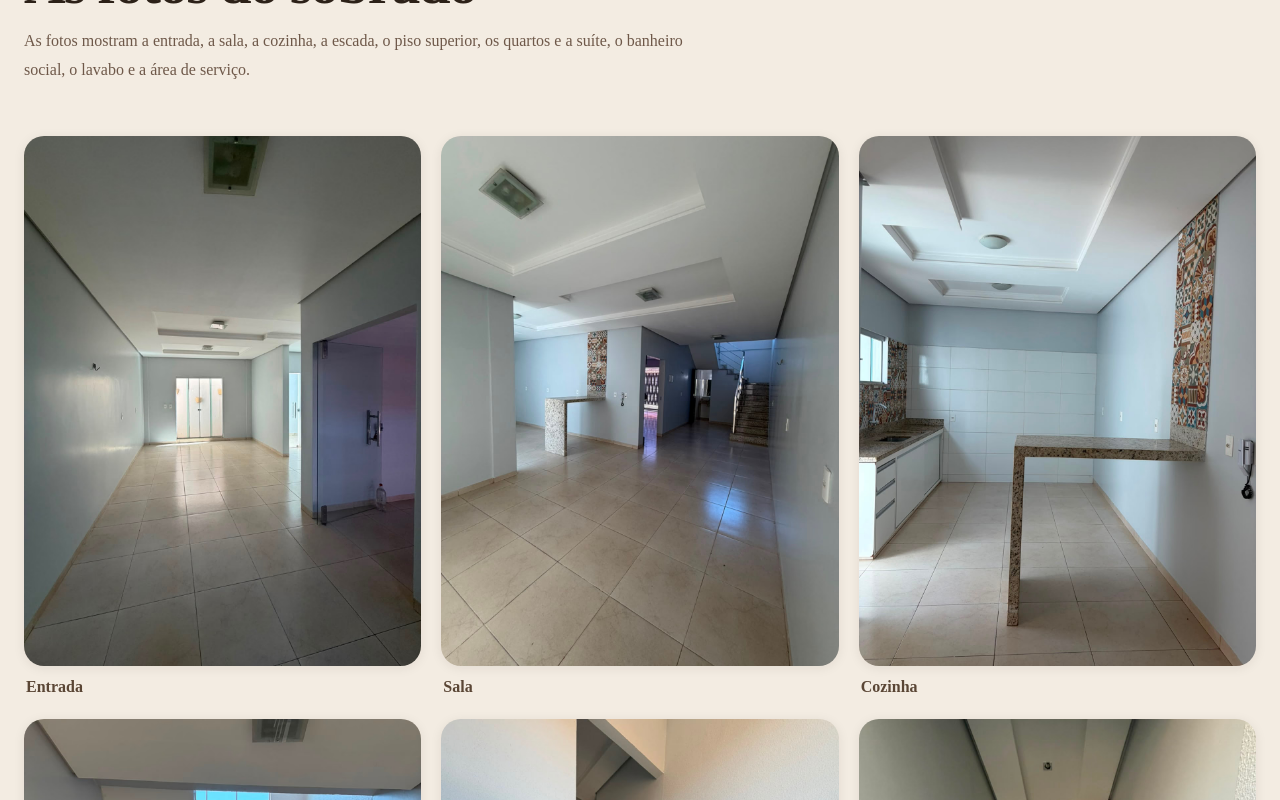
Test: gallery › opens the lightbox, navigates with arrow keys and closes with Escape
(page scrolled)
Click the button named "Hall de entrada do sobrado". click: x=223, y=401
box: [24,136,421,666]
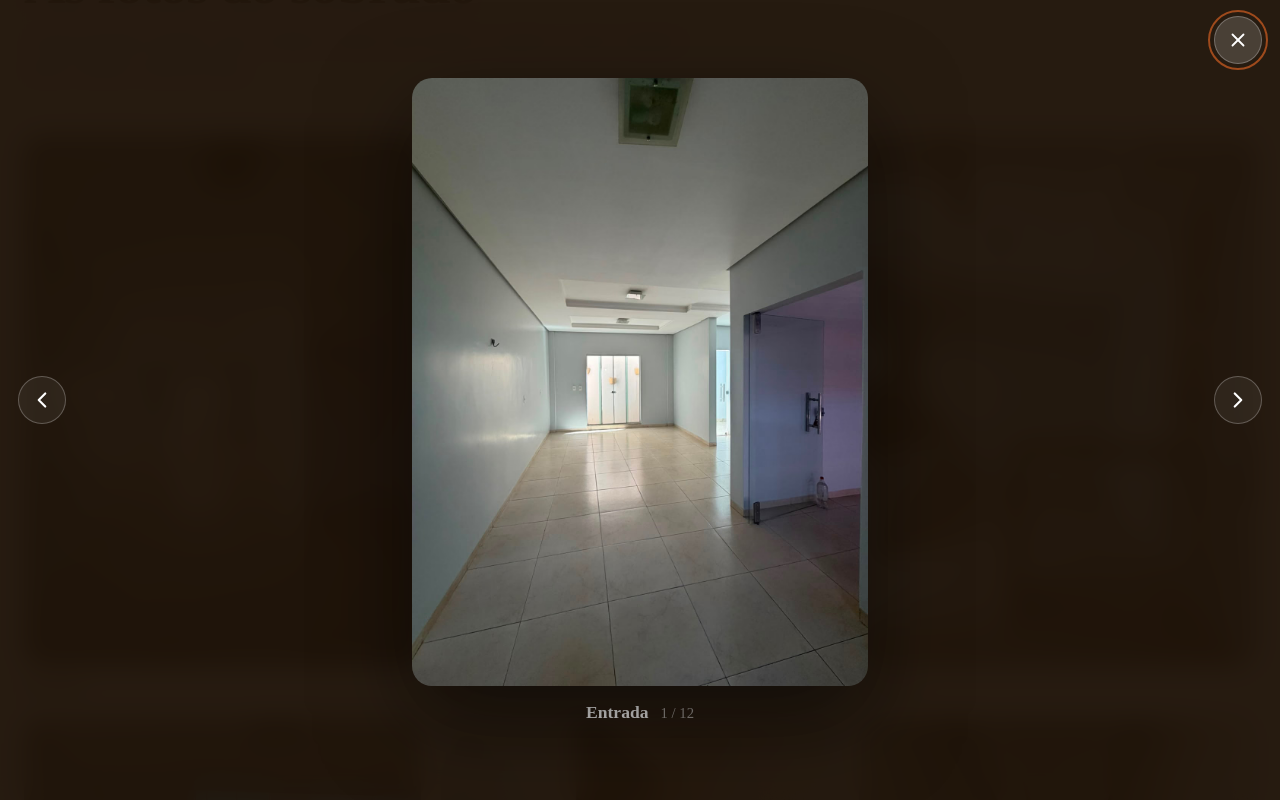
Now the dialog is shown
Now the dialog shows "1 / 12"
Press Arrowright
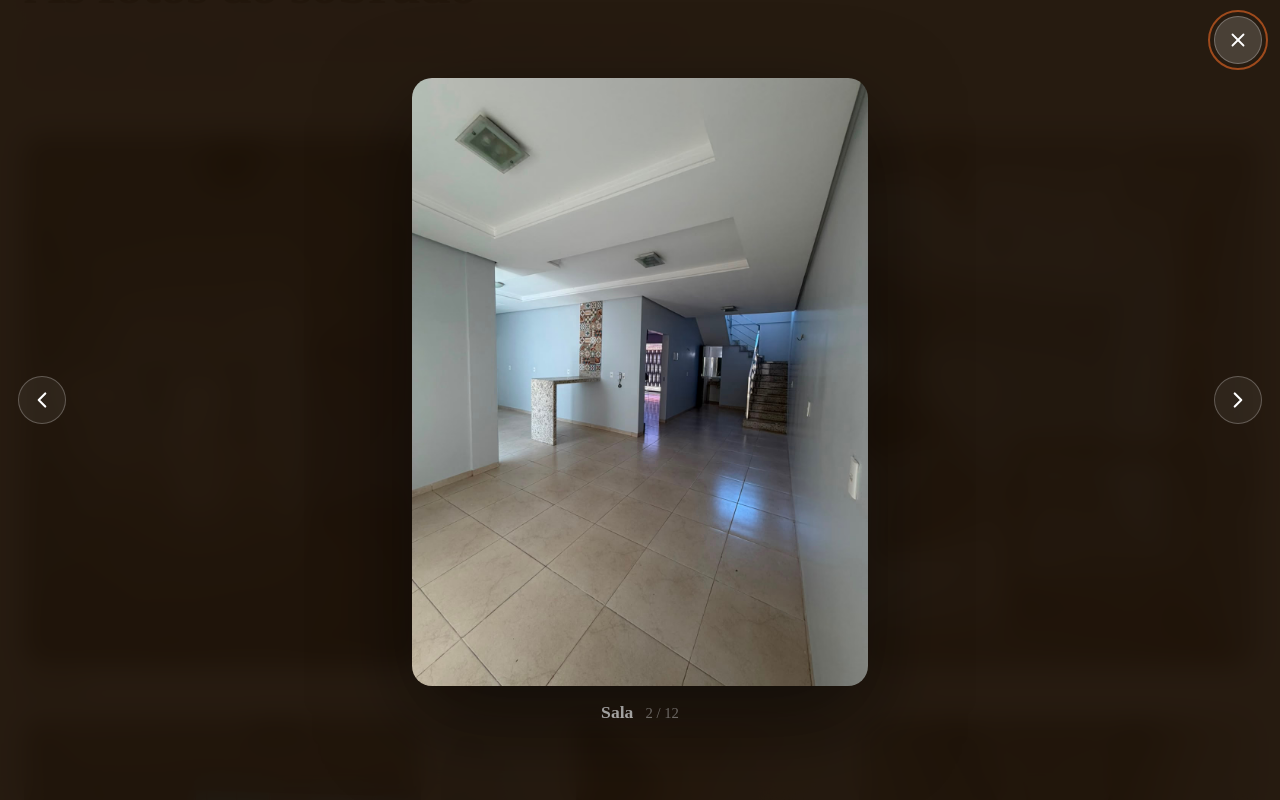
Now the dialog shows "2 / 12"
Press Arrowleft
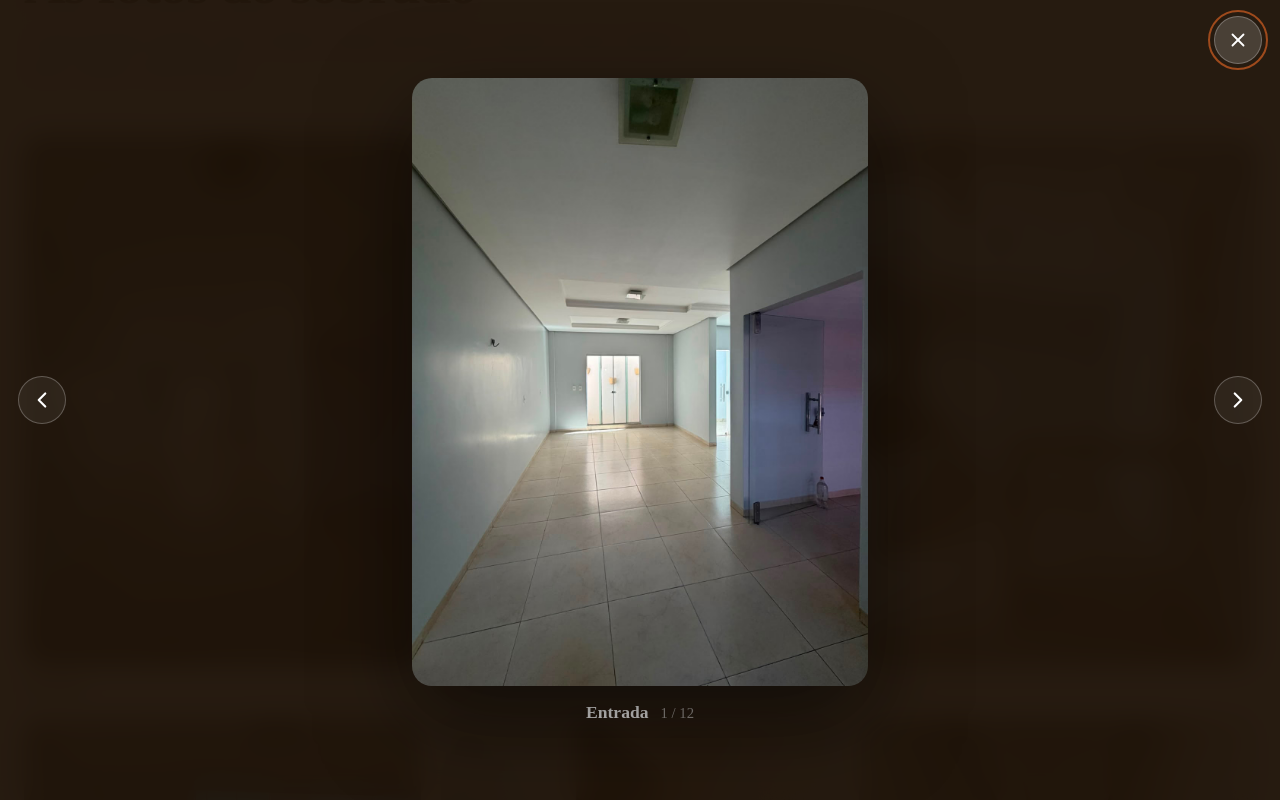
Now the dialog shows "1 / 12"
Press Escape
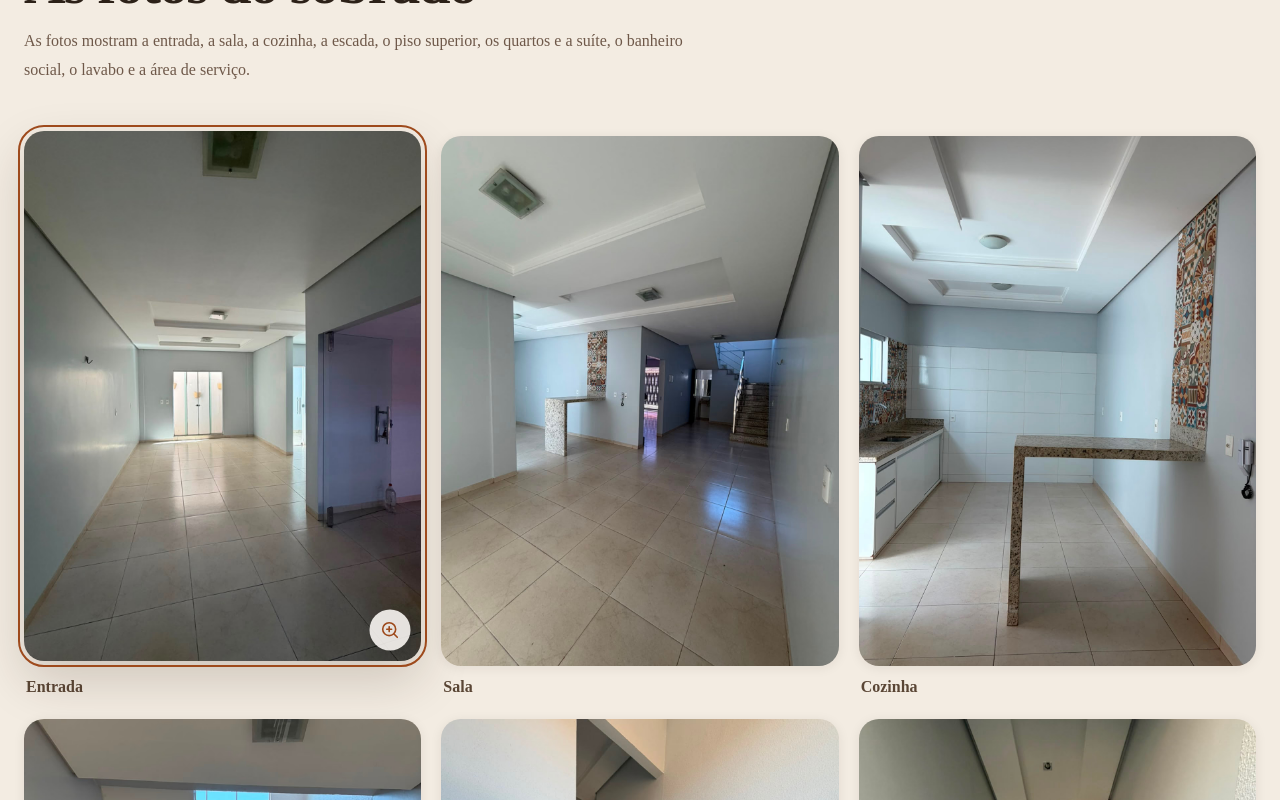
Now the dialog is gone
